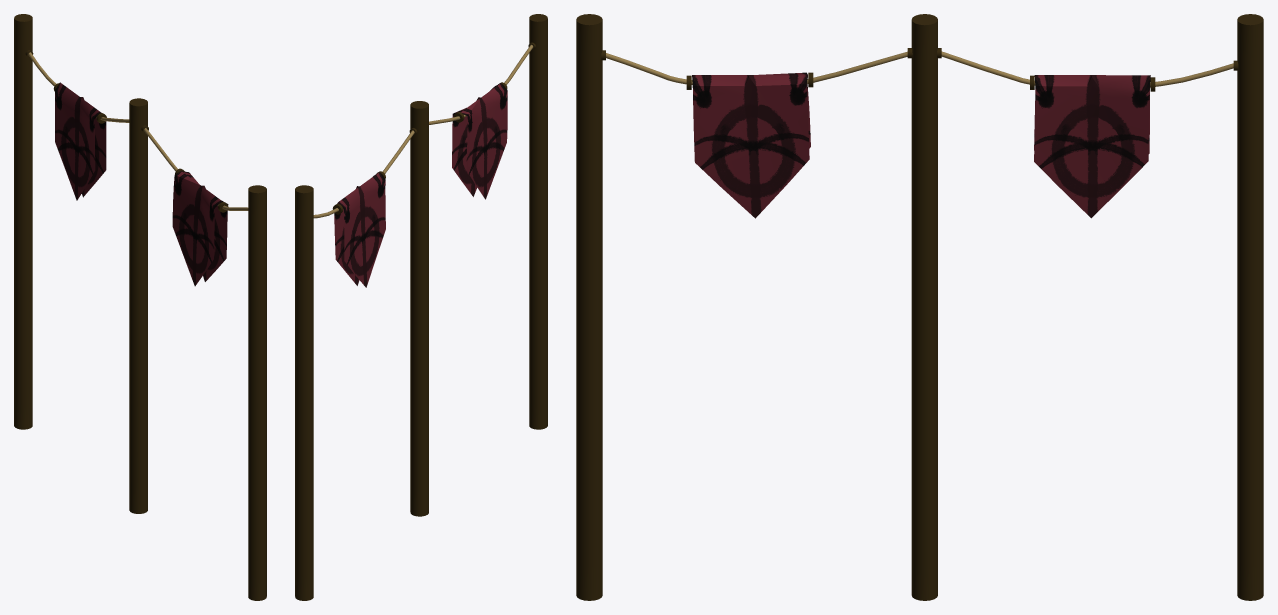
Rendered from wimpel.fbx.
3 renders of one model, left to right at view 1: azimuth 30°, elevation 25°; view 2: azimuth 150°, elevation 25°; view 3: azimuth 270°, elevation 25°, orthographic. The views are drawn at different scales.
Visible parts, largest first — view 1: Cylinder, Cylinder_1, Cylinder_2, Plane, Plane_4, Sweep; view 2: Cylinder_2, Cylinder, Cylinder_1, Plane, Plane_4, Sweep; view 3: Cylinder_2, Cylinder, Cylinder_1, Plane, Plane_4, Sweep.
Boxes of the visible parts, x1,y1,x2,y2 form: Cylinder: (248, 185, 266, 600); Cylinder_1: (129, 98, 147, 513); Cylinder_2: (14, 14, 32, 429); Plane: (172, 171, 228, 286); Plane_4: (55, 82, 106, 200); Sweep: (28, 52, 248, 210); Cylinder_2: (295, 185, 313, 600); Cylinder: (529, 14, 547, 429); Cylinder_1: (410, 101, 428, 516); Plane: (452, 83, 507, 199); Plane_4: (334, 172, 385, 287); Sweep: (313, 44, 533, 218); Cylinder_2: (1237, 14, 1263, 600); Cylinder: (576, 14, 602, 600); Cylinder_1: (911, 14, 937, 600); Plane: (692, 72, 810, 218); Plane_4: (1034, 75, 1150, 218); Sweep: (606, 51, 1233, 86).
Bounding box in the file's own units: 9.6 × 220 × 238.
3 materials, 1 textured.
